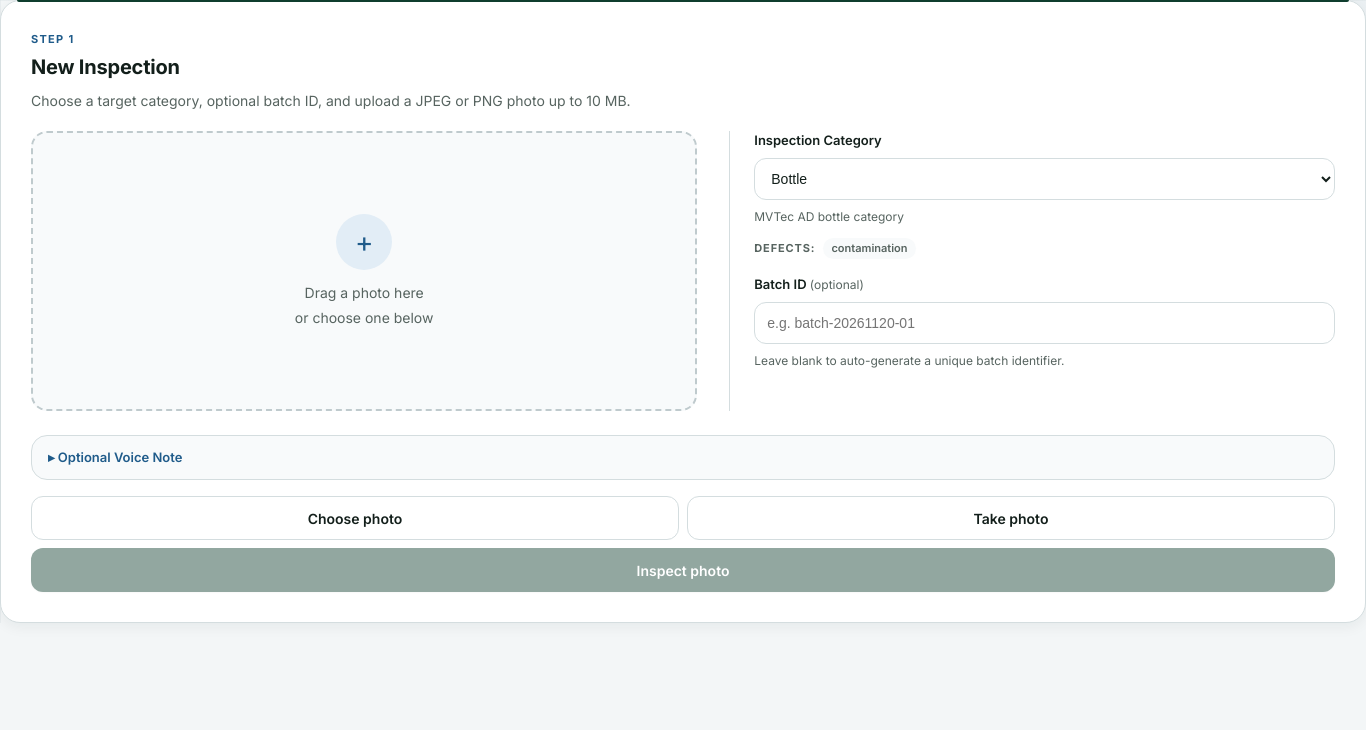
Test case: UploadPanel › records a voice note and stops at the operator request
Step 1. Click the button "▸ Optional Voice Note" → (118, 456), box [48,448,1318,467]
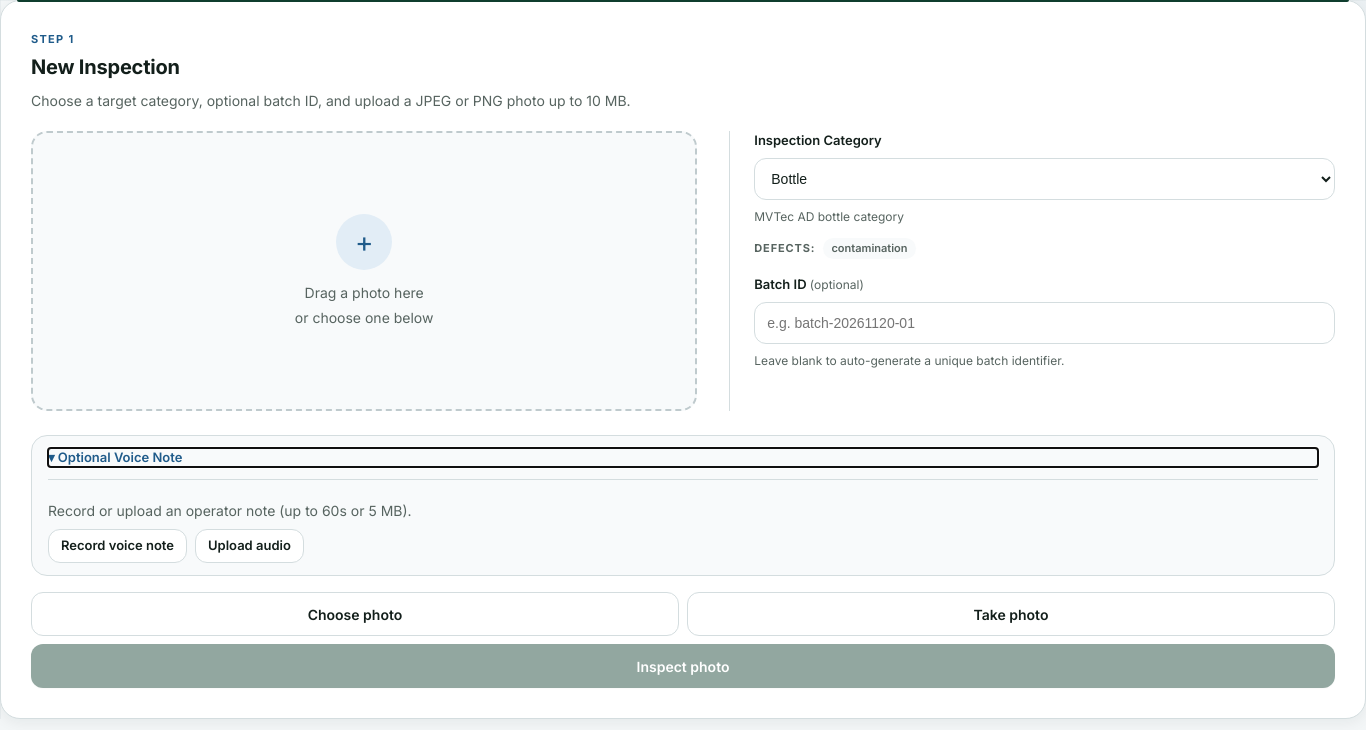
Step 2. Click the button "Record voice note" → (118, 546), box [48,529,187,563]
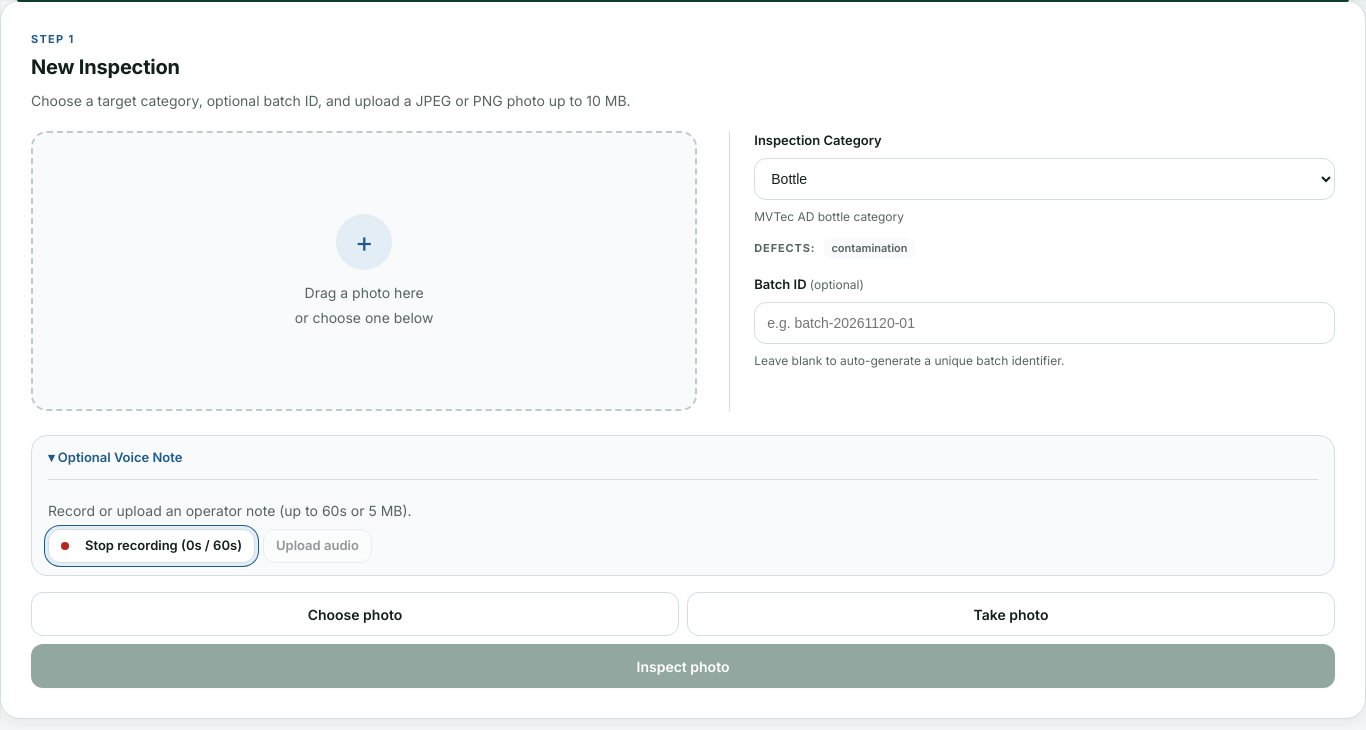
Expected: the button "Stop recording (0s / 60s)" is shown
Step 3. Click the button "Stop recording (0s / 60s)" → (152, 546), box [48,529,255,563]
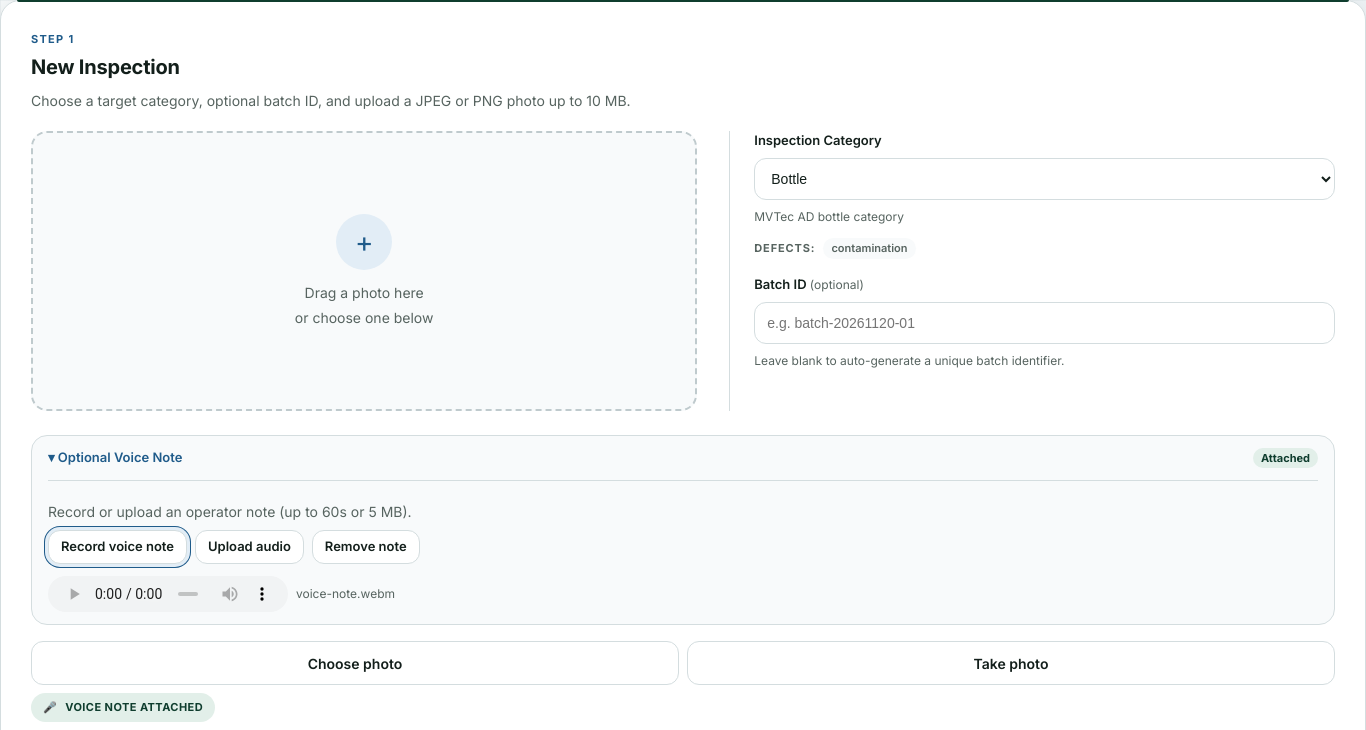
Expected: the text "voice-note.webm" is shown, [296,585,395,603]
